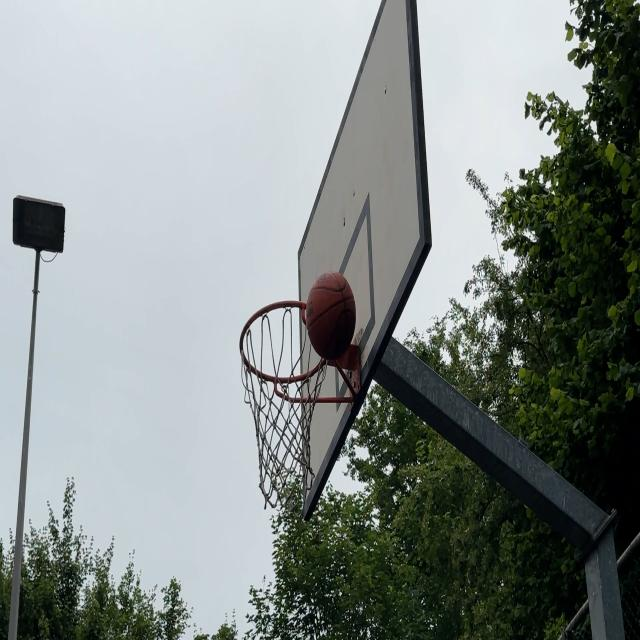Goal: (305, 269, 356, 360)
